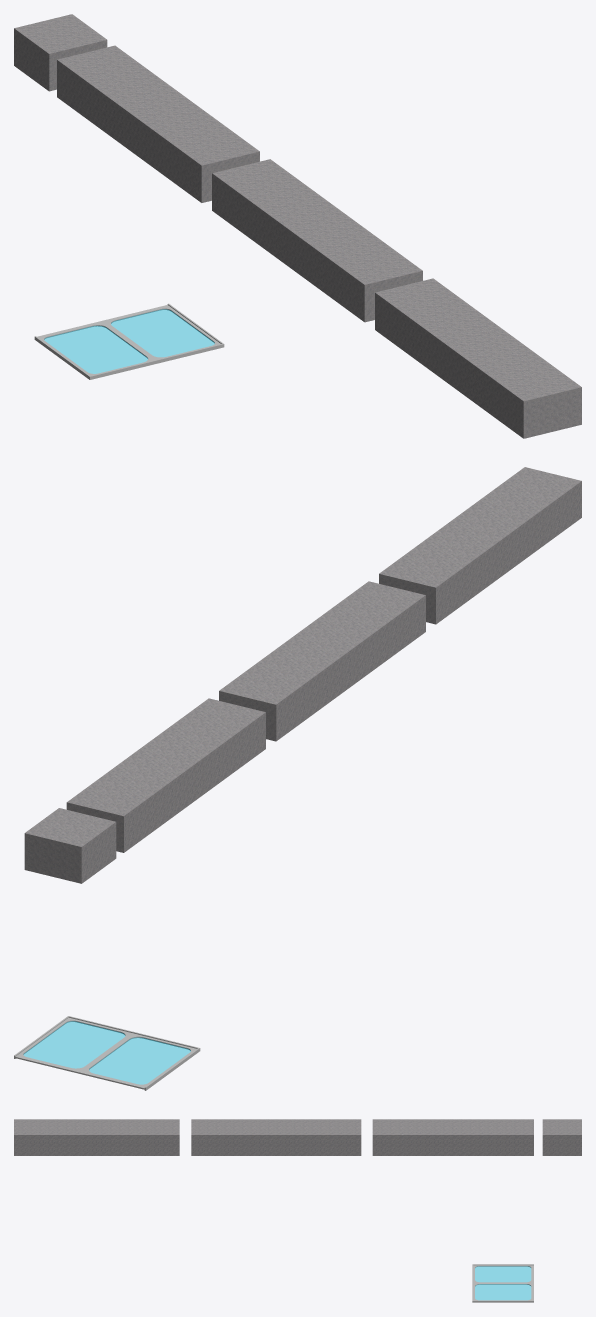
3 views of the same model, one above another, from view 1: azimuth 30°, elevation 25°; view 2: azimuth 150°, elevation 25°; view 3: azimuth 270°, elevation 25° (orthographic). The views are drawn at different scales.
Visible parts, largest first — view 1: 0_3_1_2_1_1_2; view 2: 0_3_1_2_1_1_2; view 3: 0_3_1_2_1_1_2.
Part boxes in pixels (bbox=[...]): 0_3_1_2_1_1_2: bbox=[14, 14, 581, 438]; 0_3_1_2_1_1_2: bbox=[14, 467, 581, 1090]; 0_3_1_2_1_1_2: bbox=[14, 1119, 581, 1302].
Size of the model in its own units: 3 by 5.85 by 19.71.
Materials: 5 (3 with a texture image).
